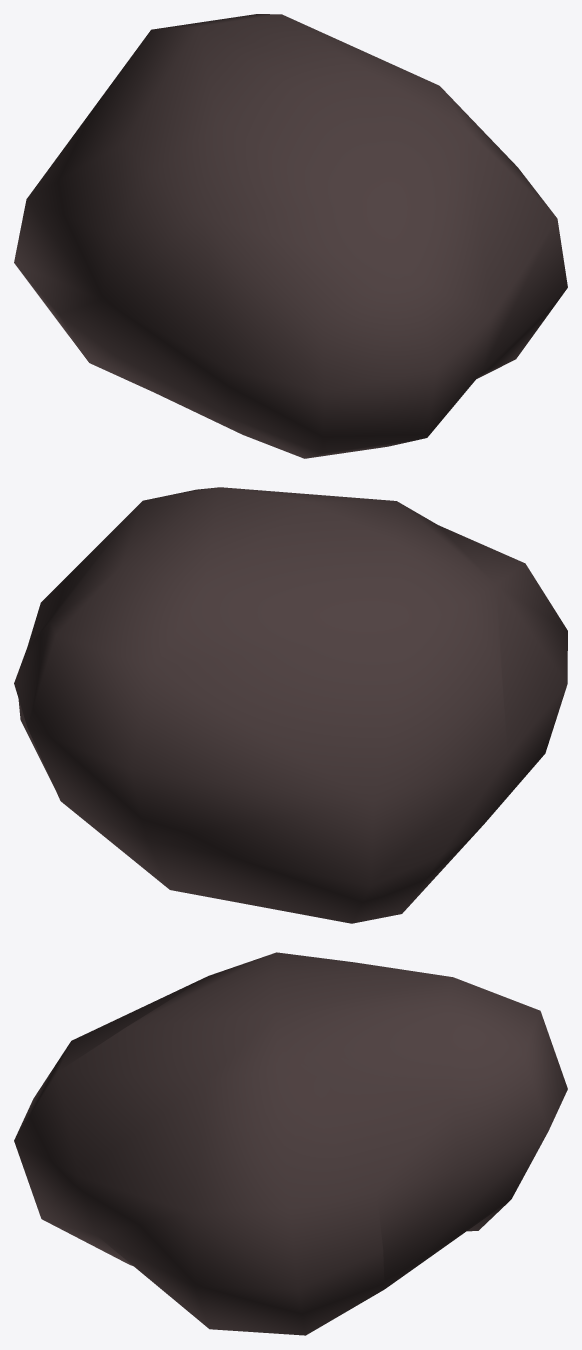
The model's file is Rock01.fbx.
The picture shows the model from 3 angles, top to bottom: view 1: azimuth 30°, elevation 25°; view 2: azimuth 150°, elevation 25°; view 3: azimuth 270°, elevation 25°; orthographic projection. The views are drawn at different scales.
Visible parts, largest first — view 1: Rock01; view 2: Rock01; view 3: Rock01.
Boxes of the visible parts, x1=… form: Rock01: x1=14, y1=14, x2=567, y2=458; Rock01: x1=14, y1=487, x2=567, y2=923; Rock01: x1=14, y1=952, x2=567, y2=1335.
Bounding box in the file's own units: 3.58 × 2.49 × 4.23.
